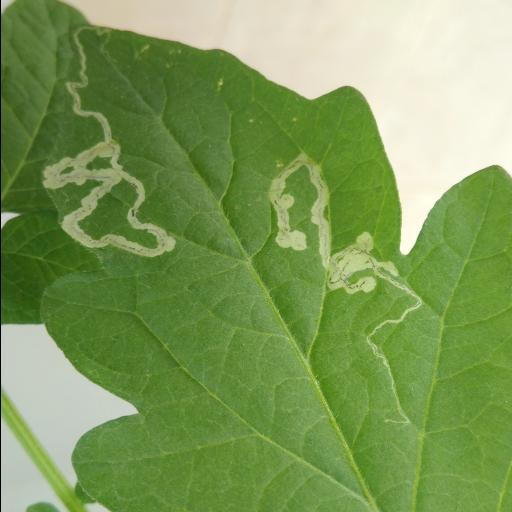disease_tomato: (34, 19, 512, 512)
